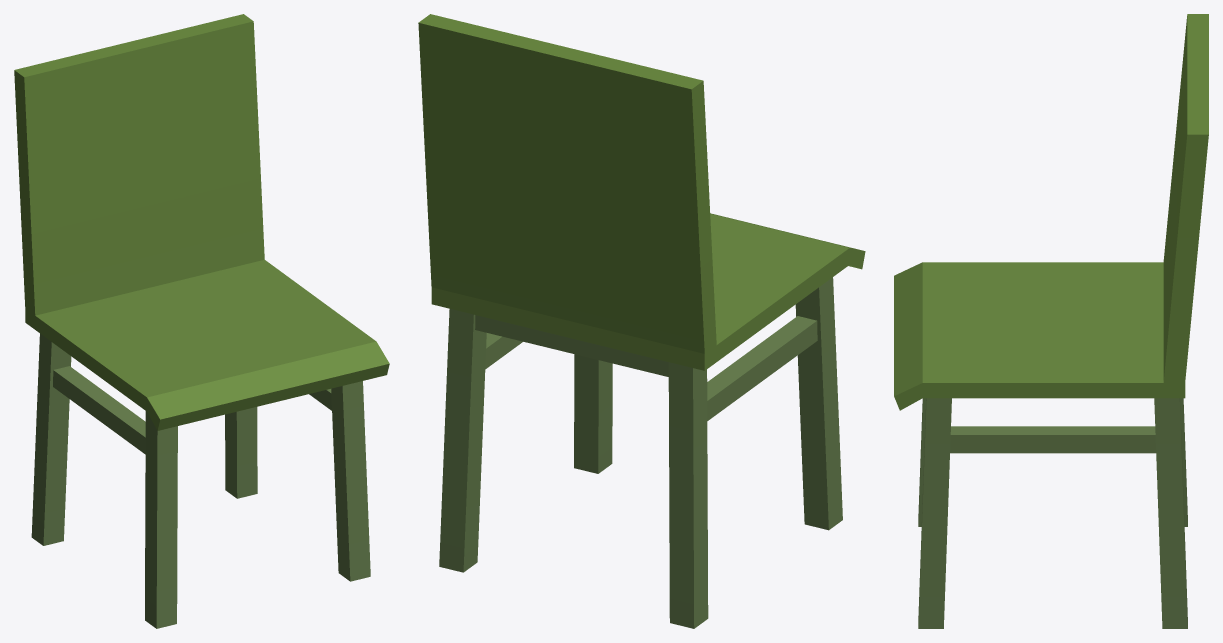
The model's file is Chair_07.fbx.
3 views of the same model, side by side, from view 1: azimuth 30°, elevation 25°; view 2: azimuth 150°, elevation 25°; view 3: azimuth 270°, elevation 25° (orthographic). The views are drawn at different scales.
Parts seen in each view (by area): view 1: Chair_07; view 2: Chair_07; view 3: Chair_07.
Part boxes in pixels (x1=…): Chair_07: x1=14, y1=14, x2=389, y2=628; Chair_07: x1=418, y1=14, x2=865, y2=628; Chair_07: x1=894, y1=14, x2=1208, y2=628.
Size of the model in its own units: 0.5254 by 1.01 by 0.5791.
